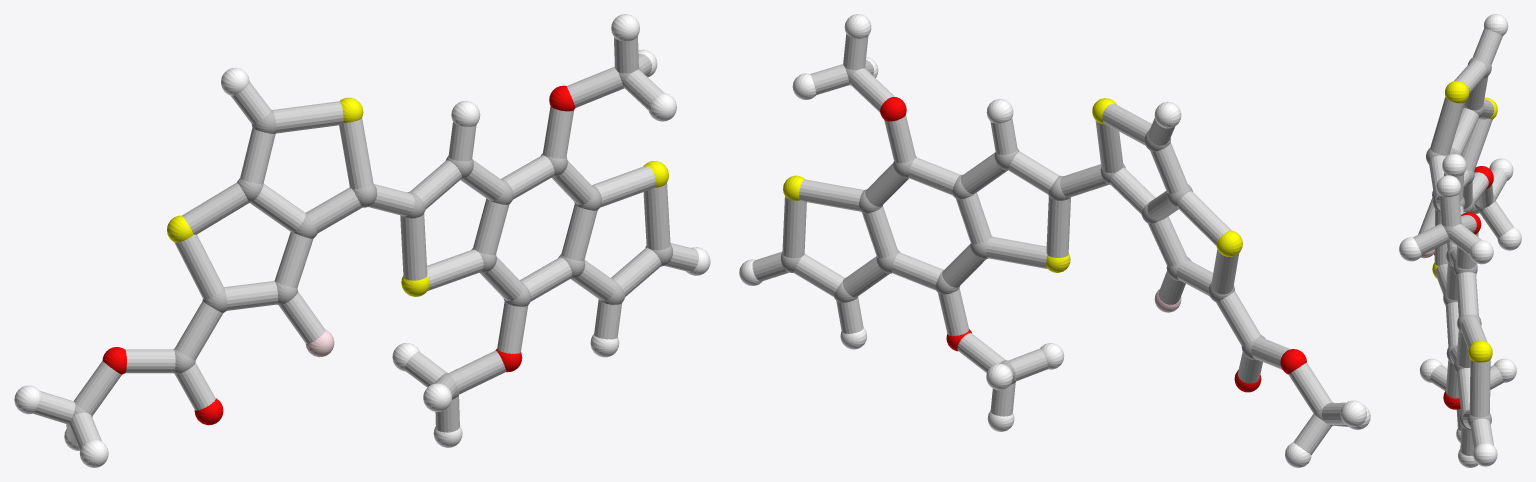
The model's file is color.glb.
3 renders of one model, left to right at view 1: azimuth 30°, elevation 25°; view 2: azimuth 150°, elevation 25°; view 3: azimuth 270°, elevation 25°, orthographic. The views are drawn at different scales.
Visible parts, largest first — view 1: grp15205, grp8689, grp1, grp13395, grp7241; view 2: grp15205, grp8689, grp1, grp7241, grp13395; view 3: grp15205, grp8689, grp1, grp7241, grp13395.
Boxes of the visible parts, x1,y1,x2,y2 form: grp15205: (33,36,698,450); grp8689: (14,14,710,467); grp1: (67,67,672,426); grp13395: (102,85,575,425); grp7241: (167,97,668,296); grp15205: (752,34,1353,454); grp8689: (739,14,1370,467); grp1: (781,67,1333,426); grp7241: (783,98,1242,272); grp13395: (880,97,1306,392); grp15205: (1413,28,1513,456); grp8689: (1399,14,1521,467); grp1: (1426,57,1495,430); grp7241: (1432,80,1497,362); grp13395: (1434,166,1493,409).
Bounding box in the file's own units: 16.36 × 9.47 × 3.02.
